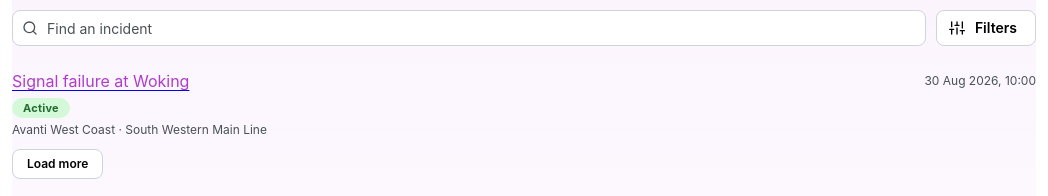
IncidentSearchForm › discards a "Load more" page that lands after a fresh search has already replaced the results
Check: the text "Signal failure at Woking" is shown, box [12,69,189,94]
Click the button "Load more".
click(58, 164)  # box [12,149,103,179]
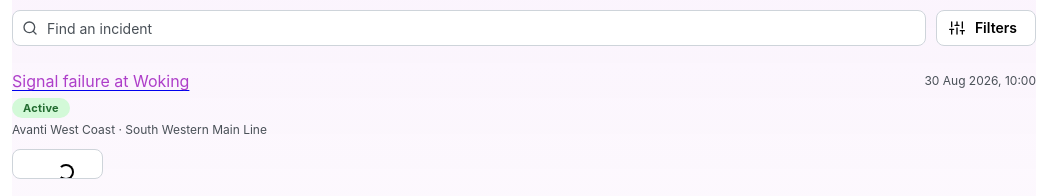
Type "points" into the field labelled "Find an incident".
click(469, 28); type("points")  # box [12,10,926,46]
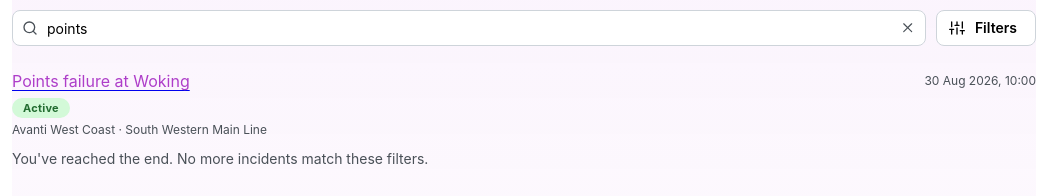
Check: the text "Points failure at Woking" is shown, box [12,69,190,94]
Check: the text "You've reached the end. No more incidents match these filters." is shown, box [12,150,428,167]
